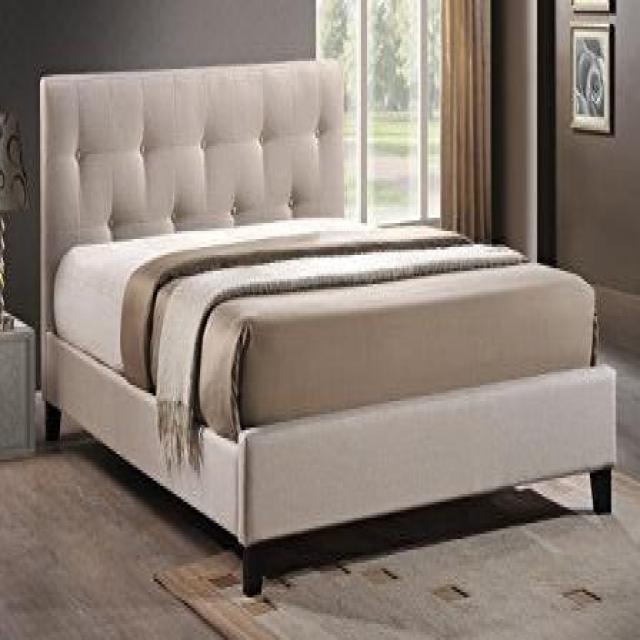bed: (38, 56, 621, 599)
